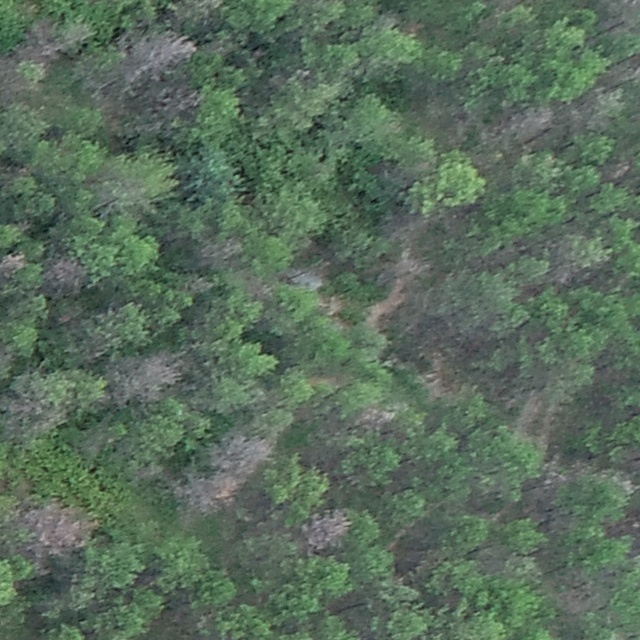unhealthy: (116, 29, 195, 96), (109, 351, 183, 405), (24, 499, 94, 556), (211, 432, 276, 478), (172, 474, 232, 517), (16, 20, 65, 67), (302, 507, 352, 553), (503, 104, 557, 143), (4, 388, 51, 432), (379, 253, 433, 290), (195, 233, 245, 269), (43, 254, 88, 293), (516, 389, 551, 439), (156, 85, 200, 117), (558, 584, 598, 615), (353, 404, 397, 431), (0, 250, 27, 278), (602, 158, 633, 181), (551, 263, 577, 288)
